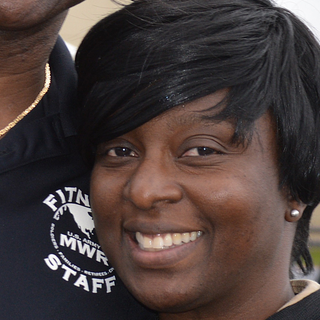eye: (179, 140, 228, 165), (102, 140, 143, 165)
